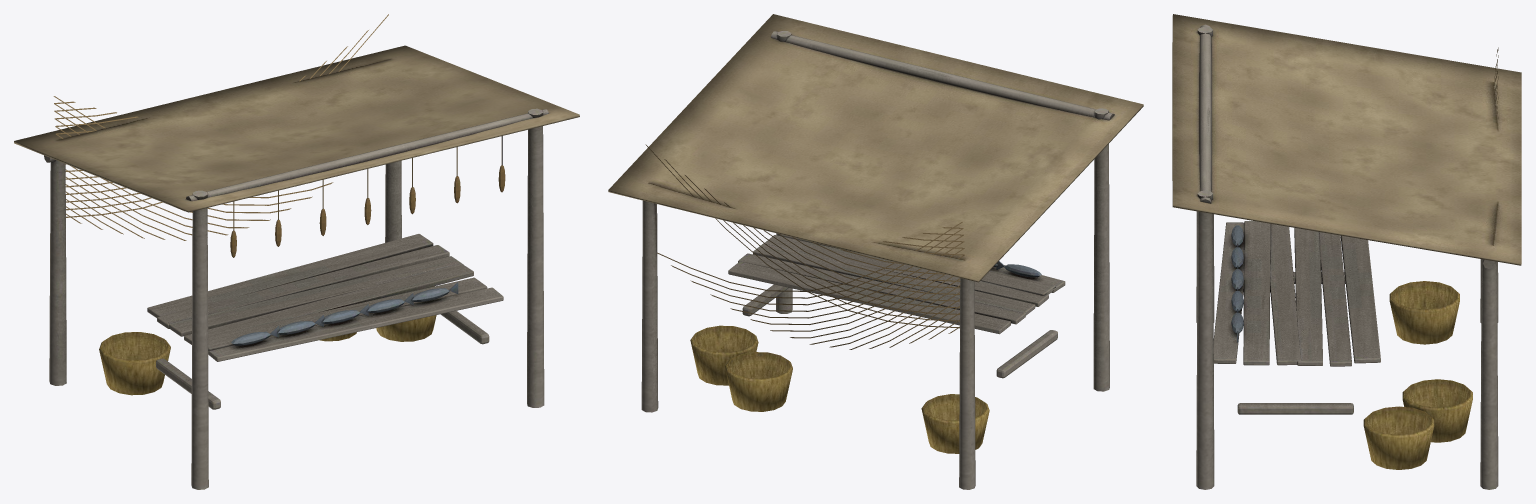
The model's file is costa_barraca_pescador.glb.
3 renders of one model, left to right at view 1: azimuth 30°, elevation 25°; view 2: azimuth 150°, elevation 25°; view 3: azimuth 270°, elevation 25°, orthographic. The views are drawn at different scales.
Visible parts, largest first — view 1: costa_barraca_pescador_tronco, rede; view 2: costa_barraca_pescador_tronco, rede; view 3: costa_barraca_pescador_tronco.
Part boxes in pixels (x1,y1,x2,y2): costa_barraca_pescador_tronco: (14,45,579,489); rede: (53,14,388,240); costa_barraca_pescador_tronco: (608,14,1143,489); rede: (645,144,964,349); costa_barraca_pescador_tronco: (1172,14,1521,489).
Size of the model in its own units: 3.5 by 2.52 by 2.71.
2 materials, 2 textured.
